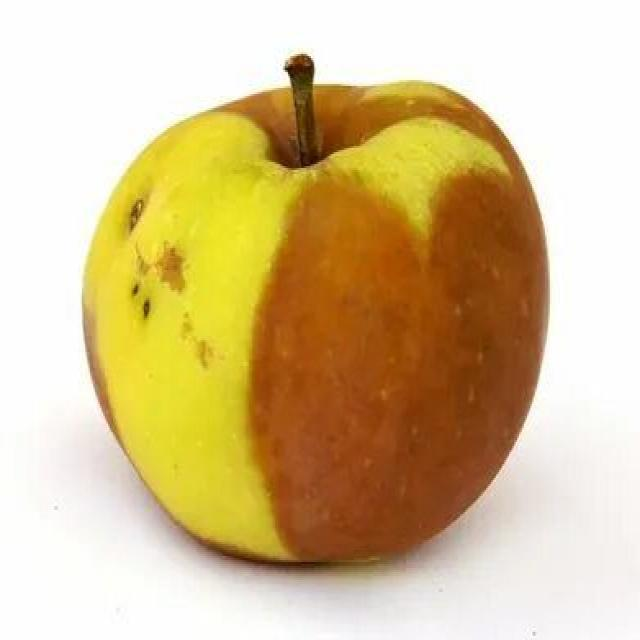Rotten: (120, 87, 573, 568)
